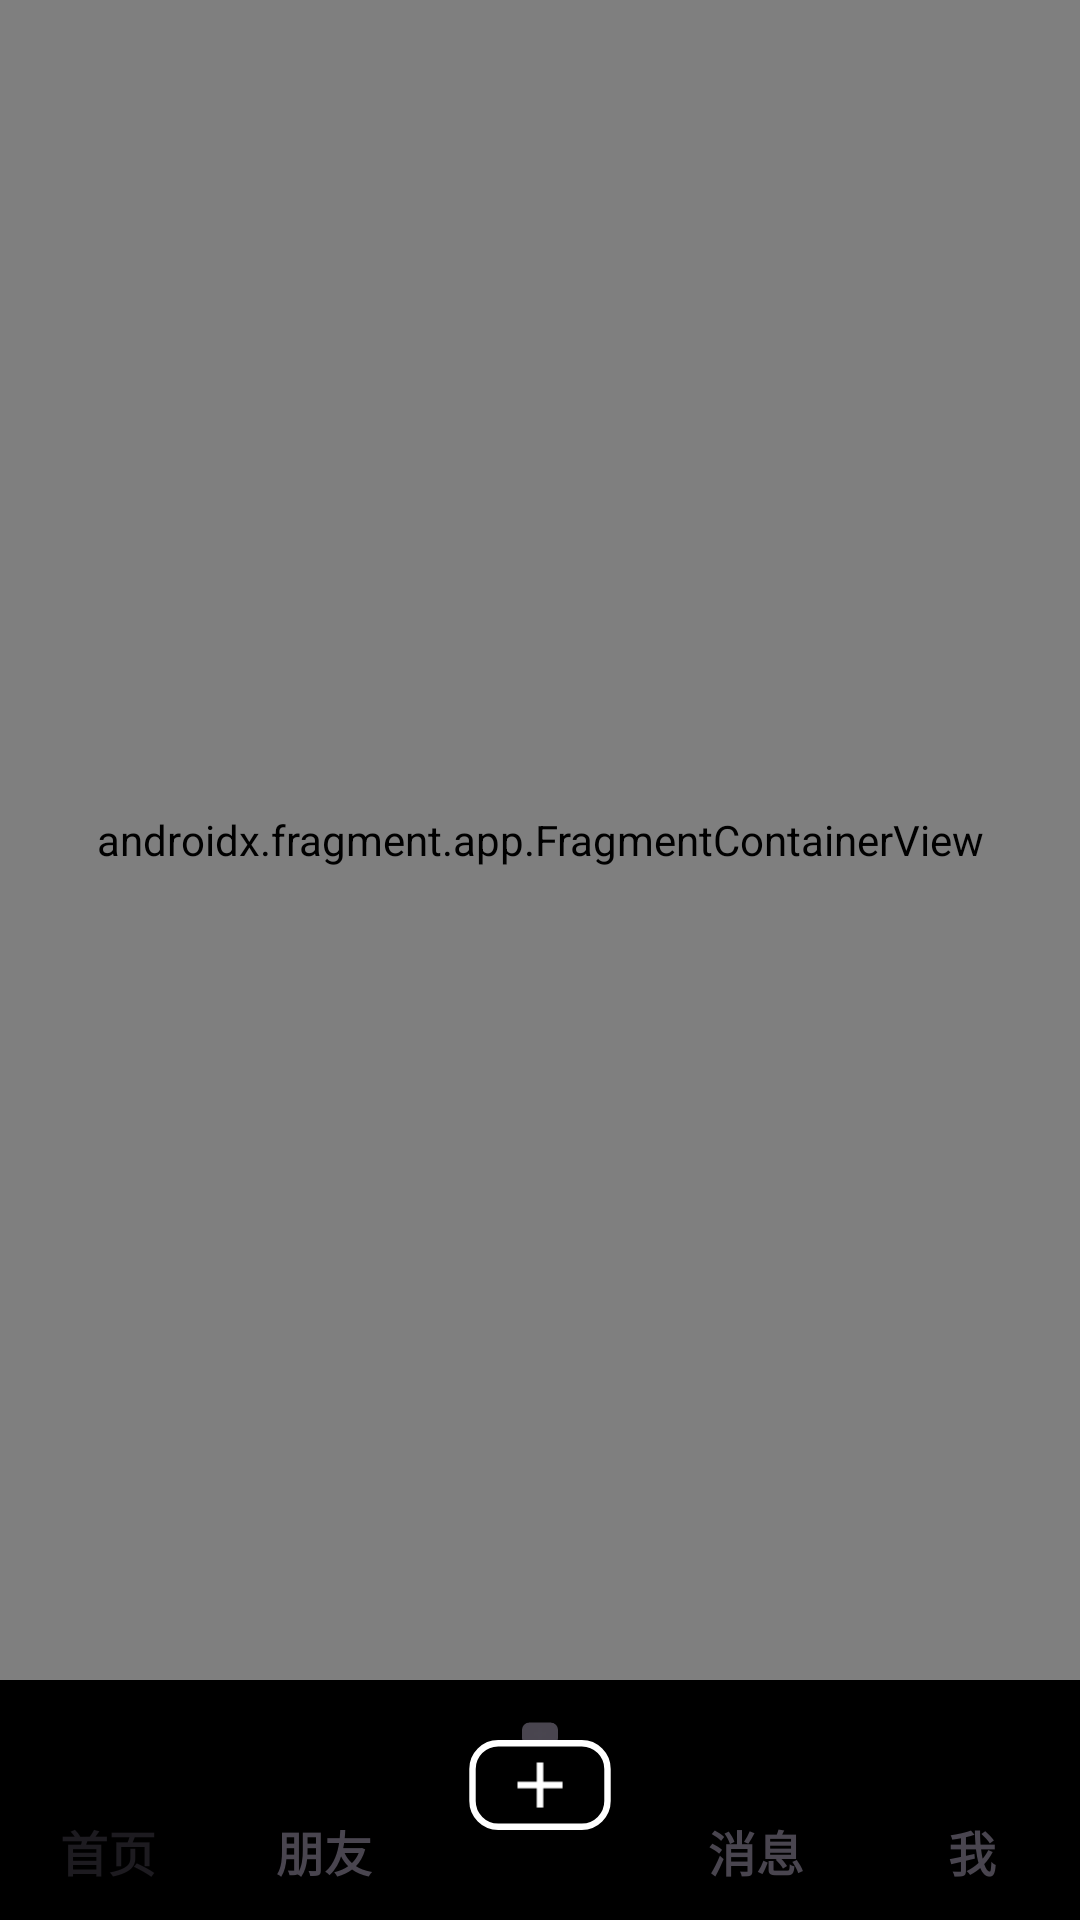

Point at icon controls on the screen. Image size 1080px×1920px, points as point (x, y).
tiktok add: point (540, 1785)
